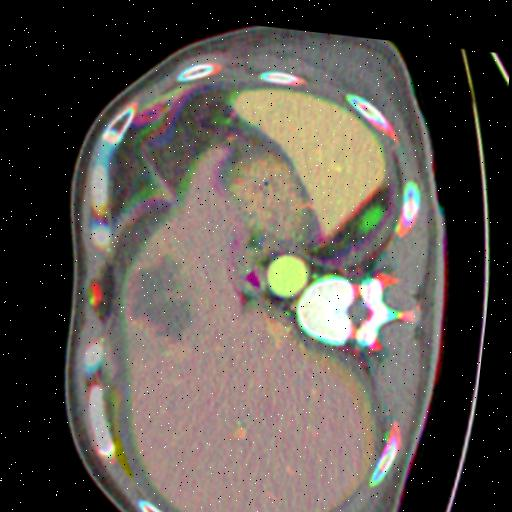Tumor: (131, 253, 199, 336)
